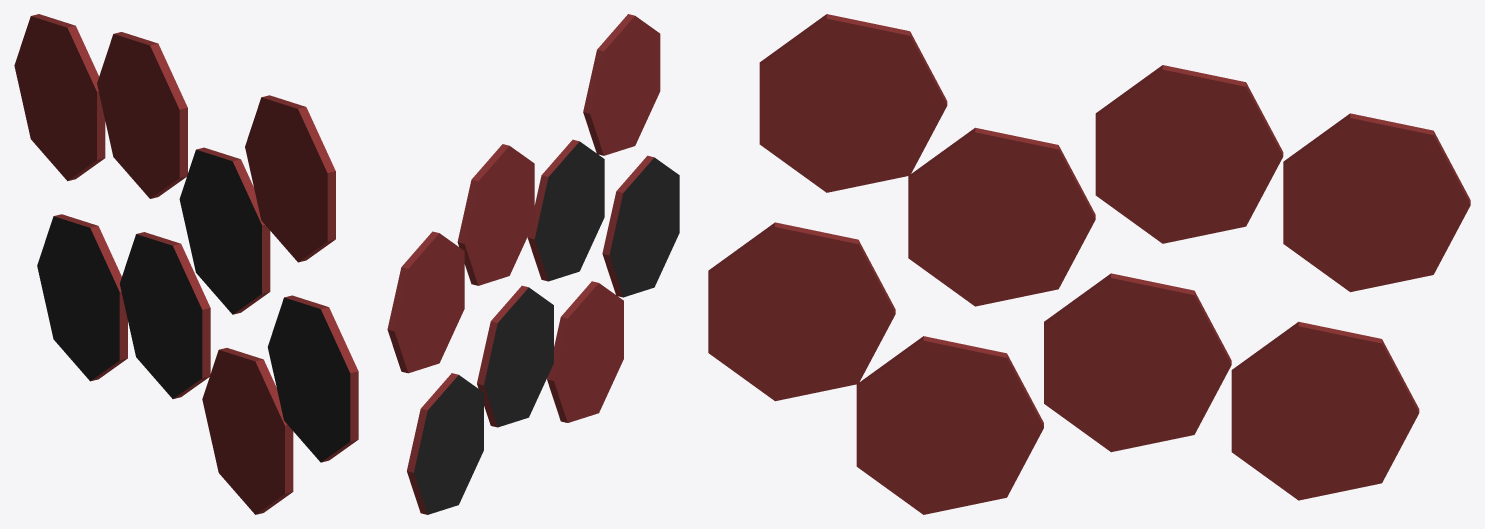
Rendered from Hexagon Design.fbx.
The picture shows the model from 3 angles, left to right: view 1: azimuth 30°, elevation 25°; view 2: azimuth 150°, elevation 25°; view 3: azimuth 270°, elevation 25°; orthographic projection. The views are drawn at different scales.
Visible parts, largest first — view 1: Hexagon Design; view 2: Hexagon Design; view 3: Hexagon Design.
Boxes of the visible parts, x1,y1,x2,y2 form: Hexagon Design: [14, 14, 358, 514]; Hexagon Design: [387, 14, 679, 514]; Hexagon Design: [708, 14, 1470, 514].
Bounding box in the file's own units: 0.0221 × 1.11 × 1.55.
